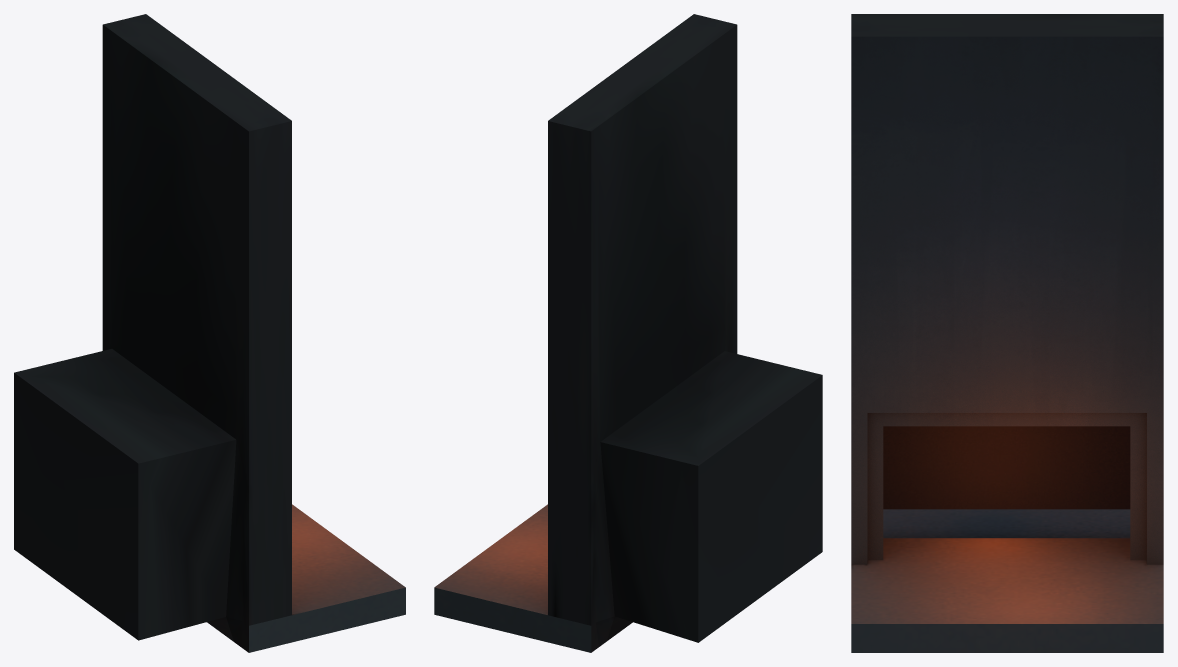
Rendered from Fireplace.fbx.
3 renders of one model, left to right at view 1: azimuth 30°, elevation 25°; view 2: azimuth 150°, elevation 25°; view 3: azimuth 270°, elevation 25°, orthographic. The views are drawn at different scales.
Visible parts, largest first — view 1: Cube.008; view 2: Cube.008; view 3: Cube.008.
Boxes of the visible parts, left/top/right/bottom form: Cube.008: left=14, top=14, right=405, bottom=652; Cube.008: left=434, top=14, right=822, bottom=652; Cube.008: left=851, top=14, right=1163, bottom=652.
Size of the model in its own units: 414 by 810 by 411.
